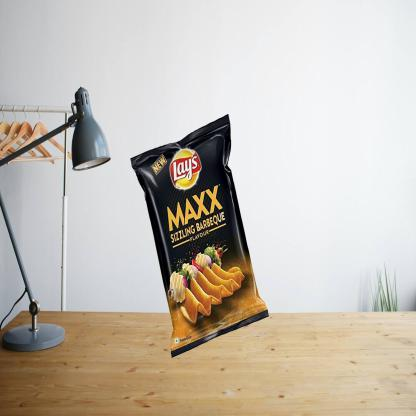plastic: (126, 115, 273, 345)
